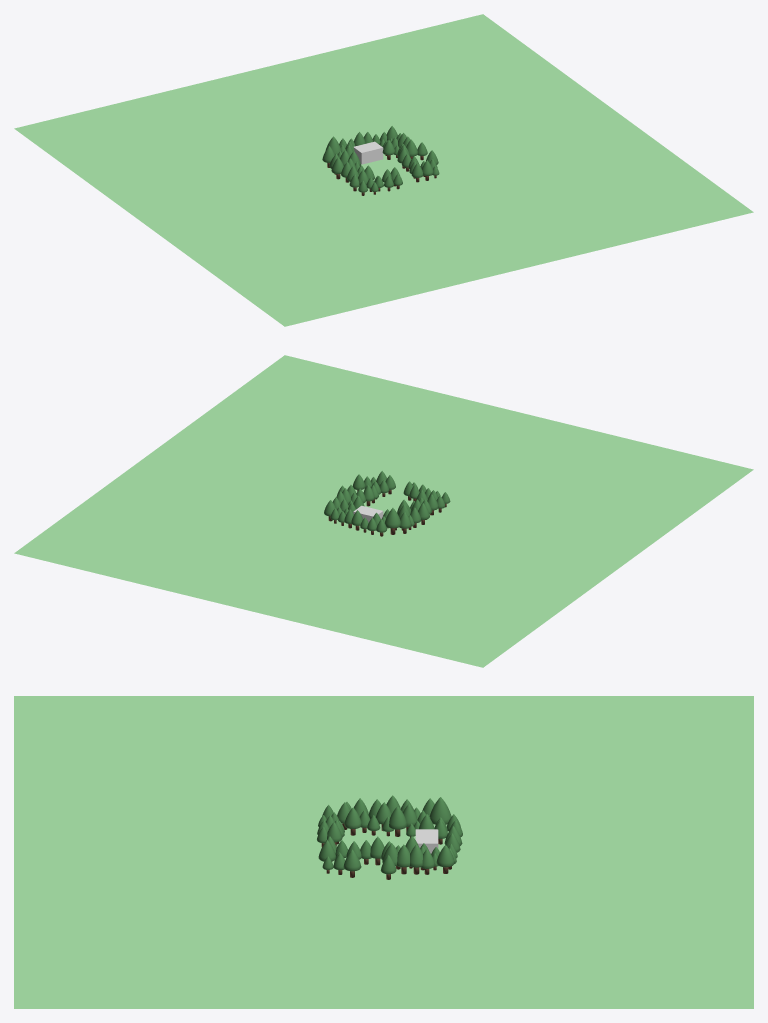
Rendered from Skunk Area.glb.
3 renders of one model, top to bottom at view 1: azimuth 30°, elevation 25°; view 2: azimuth 150°, elevation 25°; view 3: azimuth 270°, elevation 25°, orthographic. The views are drawn at different scales.
Parts seen in each view (by area): view 1: Ground; view 2: Ground; view 3: Ground.
Part boxes in pixels (bbox=[...]): Ground: bbox=[14, 14, 753, 326]; Ground: bbox=[14, 355, 753, 667]; Ground: bbox=[14, 696, 753, 1008].
Size of the model in its own units: 160 by 8.78 by 160.
Materials: 3 (1 with a texture image).
